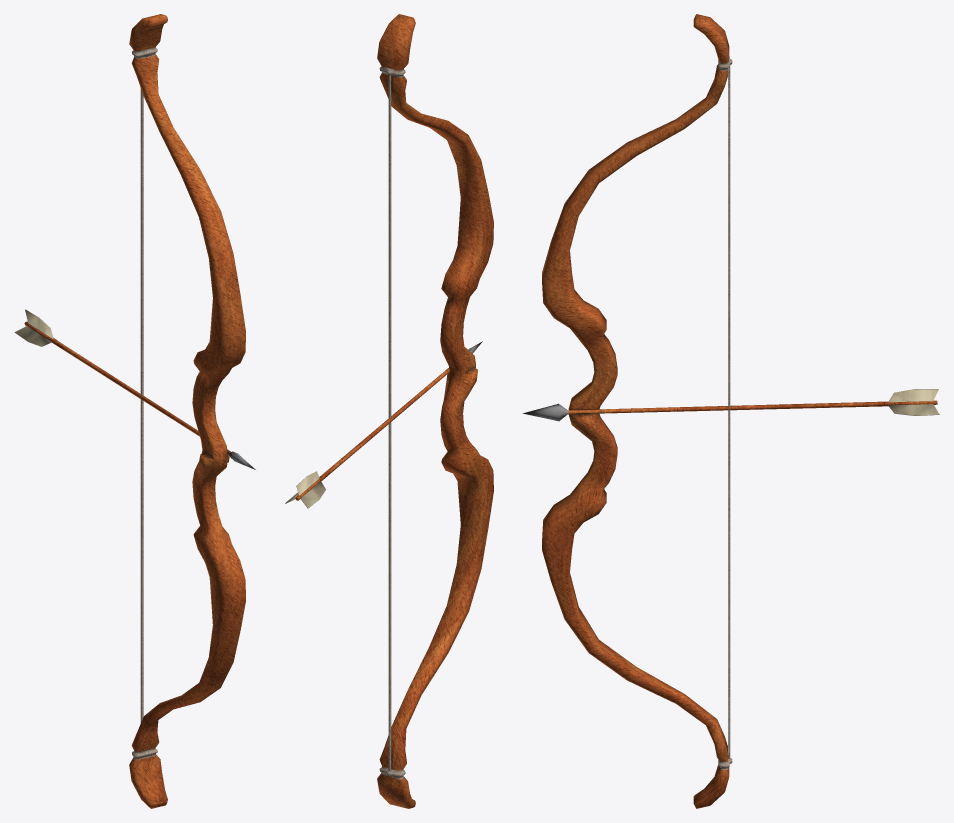
The model's file is SM_Bow&ArrowsProp.fbx.
3 renders of one model, left to right at view 1: azimuth 30°, elevation 25°; view 2: azimuth 150°, elevation 25°; view 3: azimuth 270°, elevation 25°, orthographic.
Visible parts, largest first — view 1: SM_Bow&ArrowProp; view 2: SM_Bow&ArrowProp; view 3: SM_Bow&ArrowProp.
Part boxes in pixels (x1=…): SM_Bow&ArrowProp: x1=14, y1=14, x2=255, y2=808; SM_Bow&ArrowProp: x1=285, y1=14, x2=493, y2=808; SM_Bow&ArrowProp: x1=522, y1=14, x2=939, y2=808.
Bounding box in the file's own units: 8.66 × 176 × 84.49.
